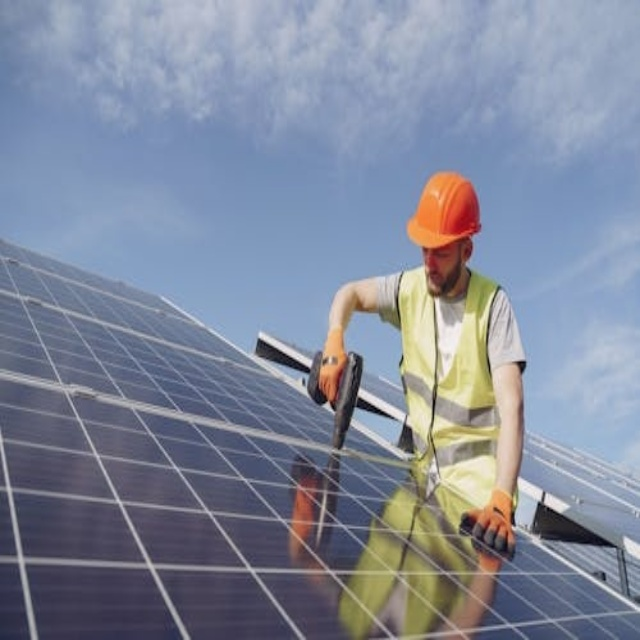Guantes: (459, 487, 517, 567), (317, 326, 349, 405)
Sin_gafas: (419, 240, 457, 259)
Sin_mascara: (422, 265, 448, 296)
